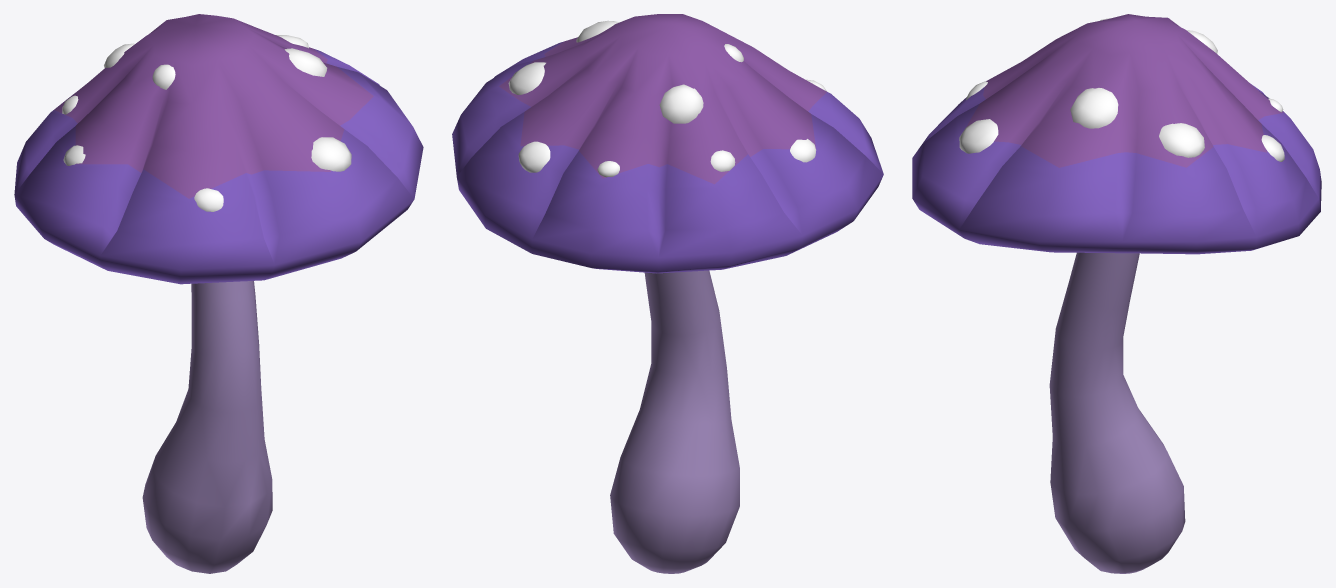
The model's file is mushroom 10.fbx.
3 views of the same model, side by side, from view 1: azimuth 30°, elevation 25°; view 2: azimuth 150°, elevation 25°; view 3: azimuth 270°, elevation 25° (orthographic).
Parts seen in each view (by area): view 1: Mushroom_0001_0010; view 2: Mushroom_0001_0010; view 3: Mushroom_0001_0010.
Boxes of the visible parts, x1,y1,x2,y2 form: Mushroom_0001_0010: (14,14,423,573); Mushroom_0001_0010: (452,14,883,573); Mushroom_0001_0010: (912,14,1321,573).
Bounding box in the file's own units: 18.34 × 25.88 × 17.6.
Materials: 1 (1 with a texture image).
